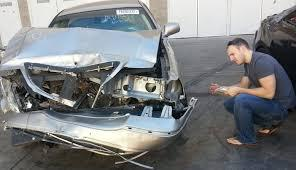bonnet-dent: (5, 23, 161, 67)
front-bumper-dent: (25, 109, 152, 152)
